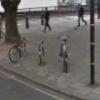bicycles: (58, 35, 74, 77), (6, 32, 26, 64), (39, 41, 47, 66)
